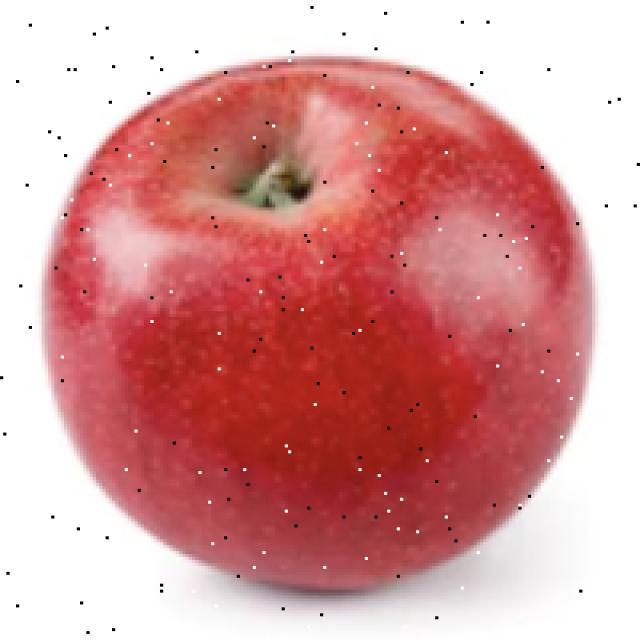Fresh Apple: (50, 78, 590, 580)
